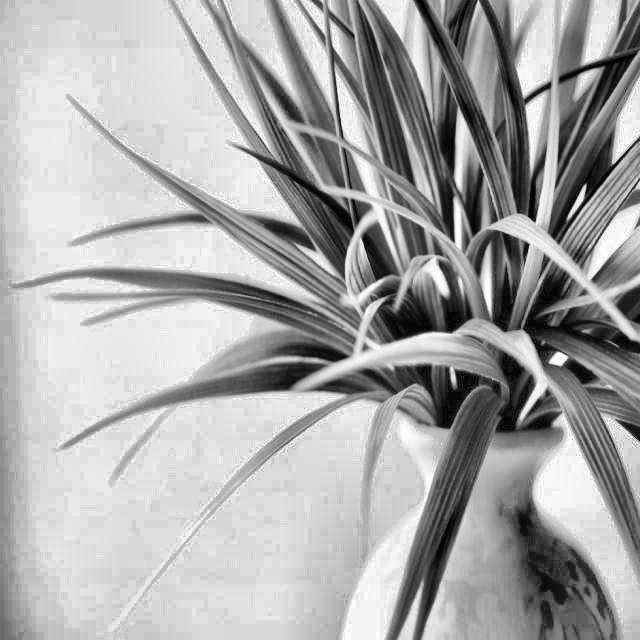plants: (106, 0, 640, 602)
